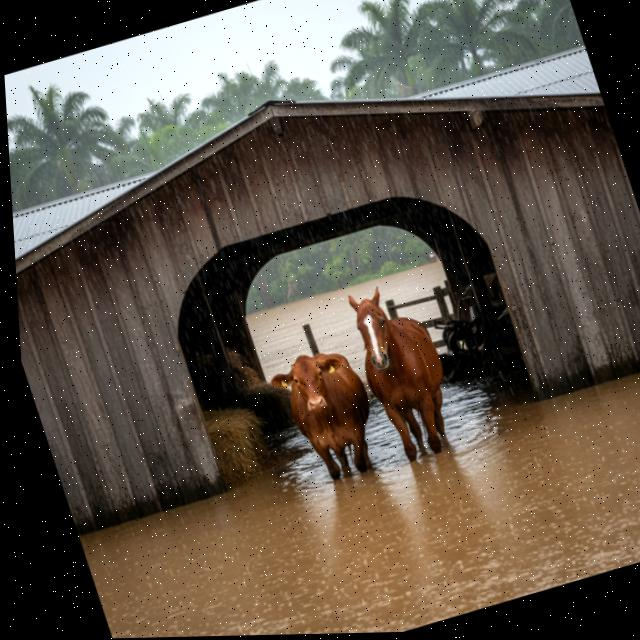cow: (255, 335, 402, 503)
horse: (326, 263, 489, 479)
